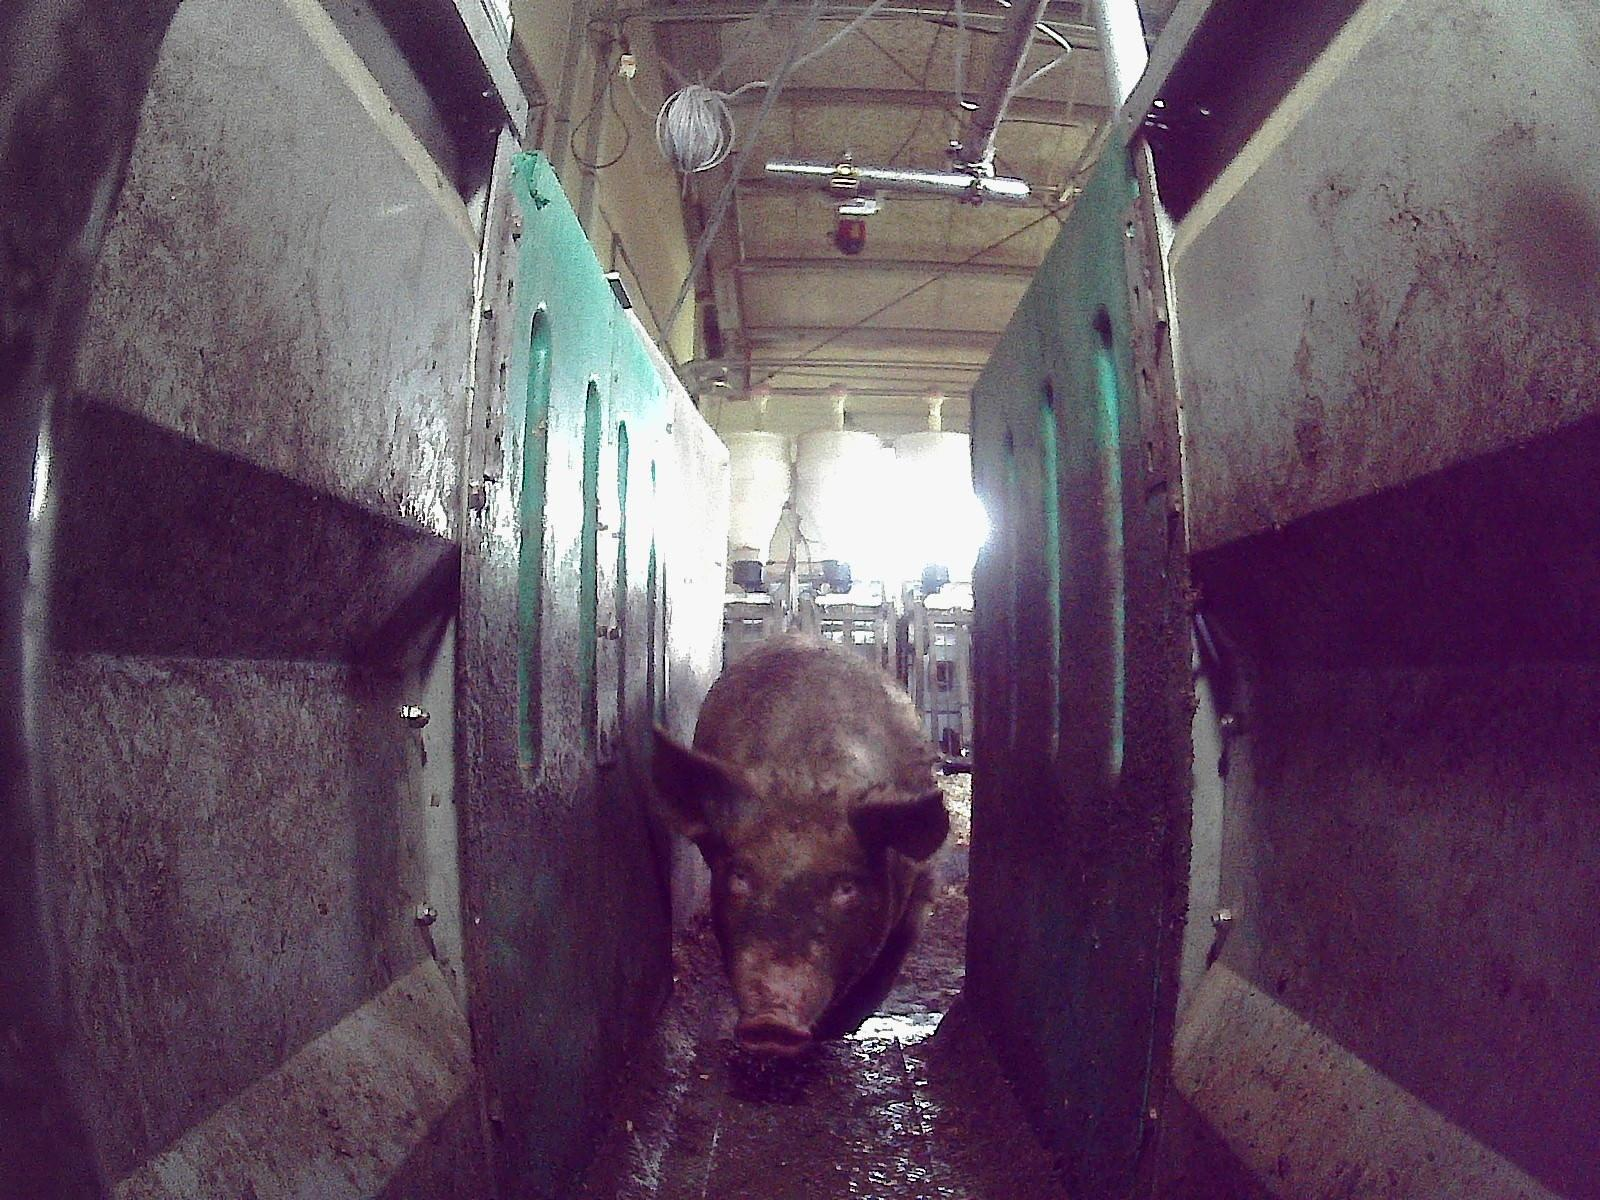Face: (709, 791, 891, 1054)
